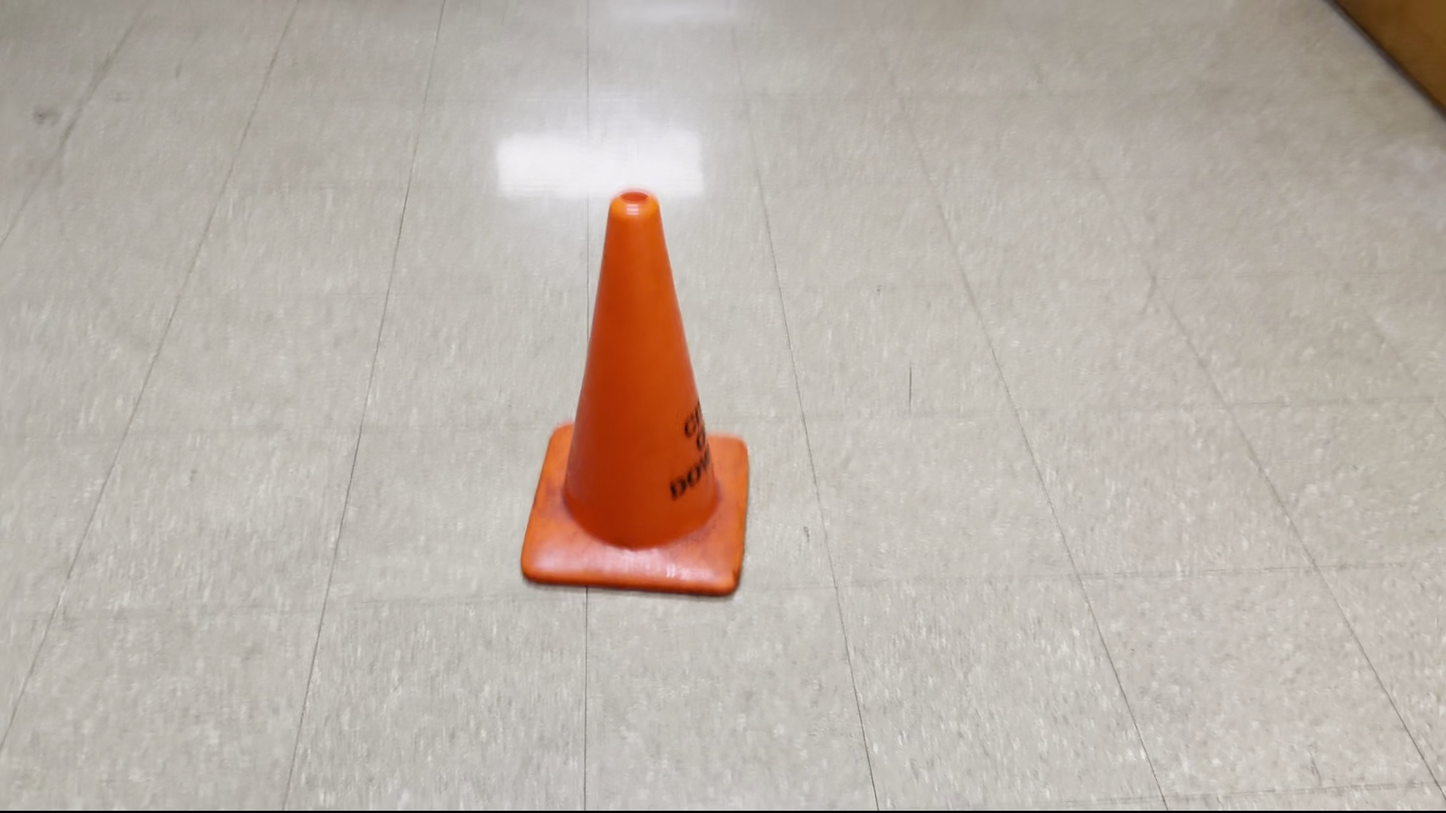traffic_cone: (519, 188, 750, 597)
